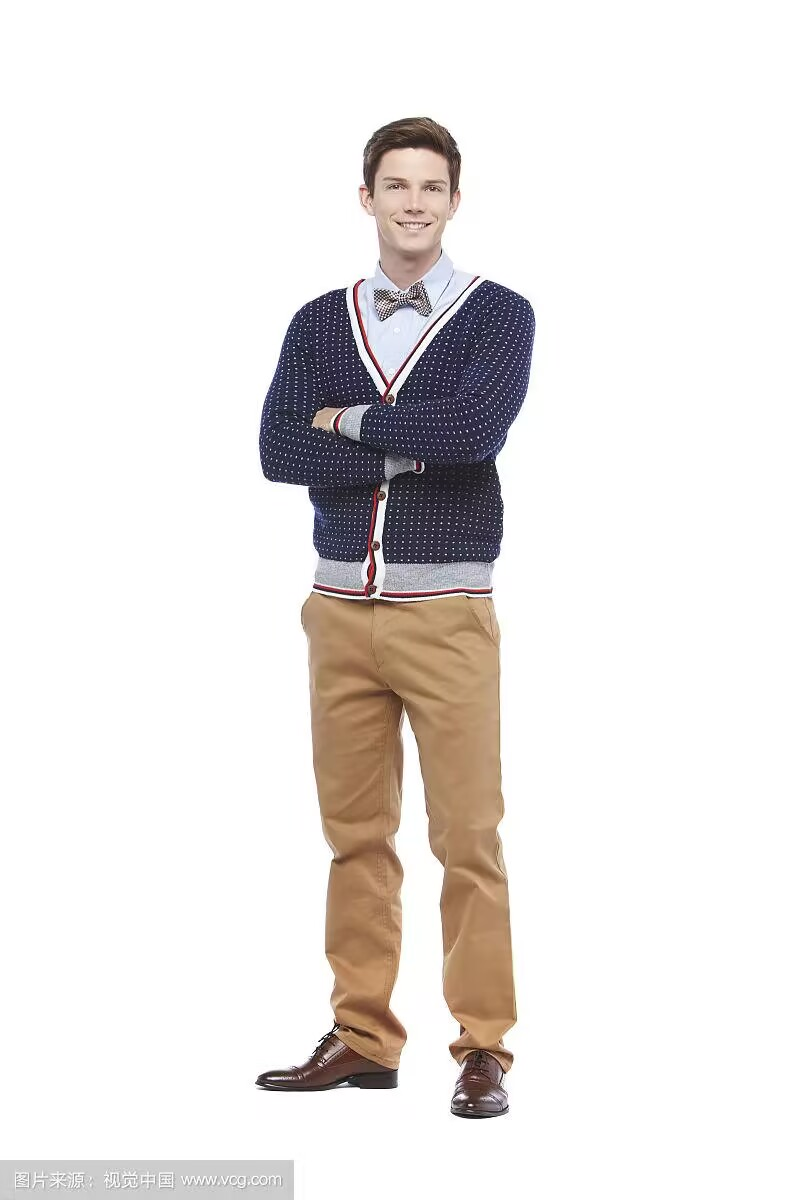up: (244, 100, 566, 1139)
